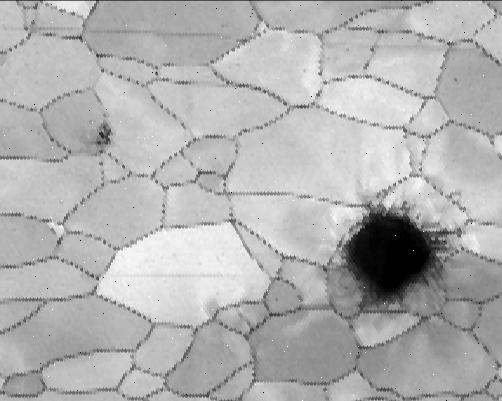good_void: (328, 195, 467, 318), (86, 113, 117, 151), (302, 66, 308, 74), (345, 45, 351, 52), (454, 76, 458, 83)
